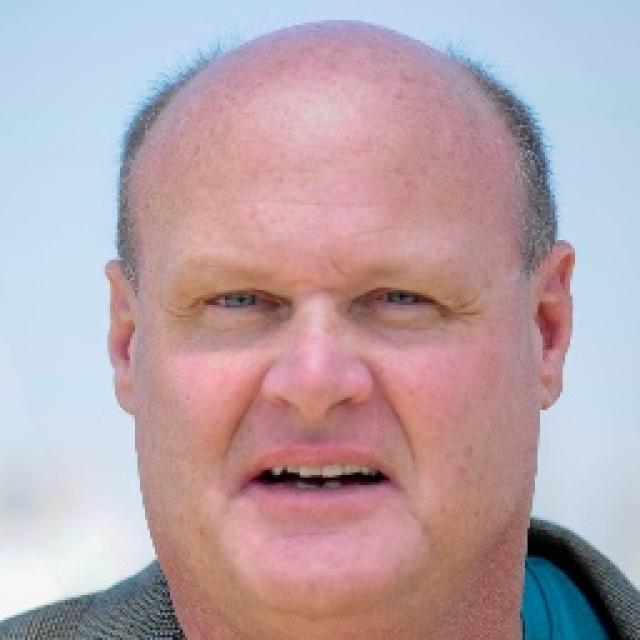earlobe: (533, 240, 576, 408), (102, 259, 139, 418)
